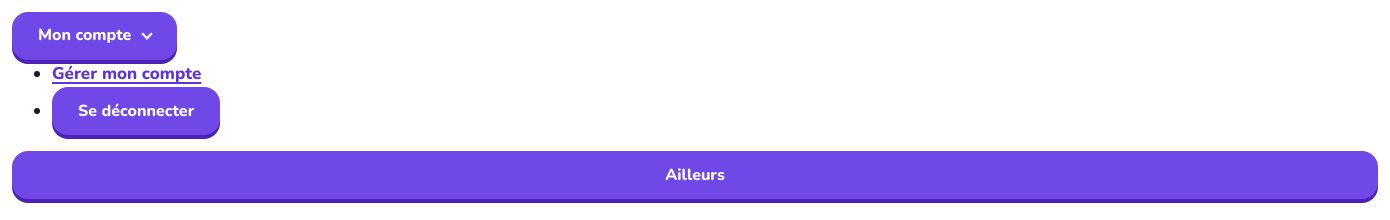
Test case: MenuCompte › Échap referme le menu et rend le focus au bouton
Click the button "Mon compte" at x=95, y=36, box x1=12 y1=12 x2=177 y2=60
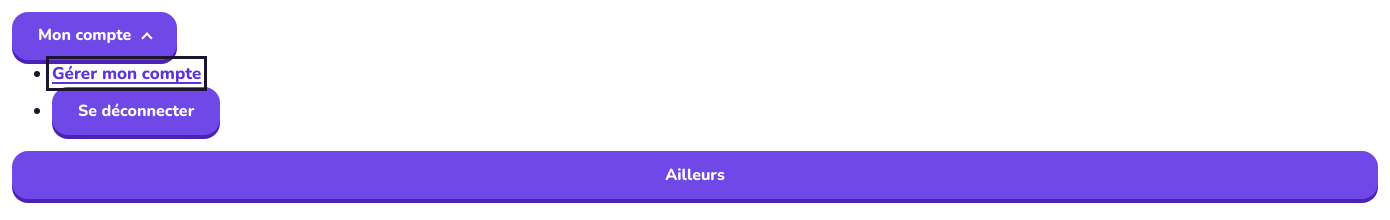
Press Escape
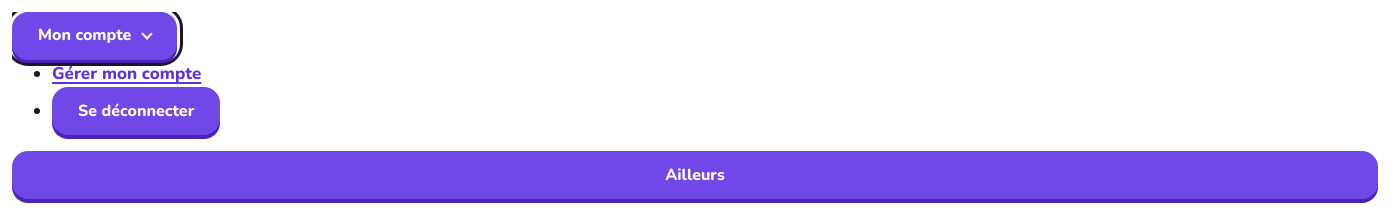
Now the button "Mon compte" is collapsed, box x1=12 y1=12 x2=177 y2=60
